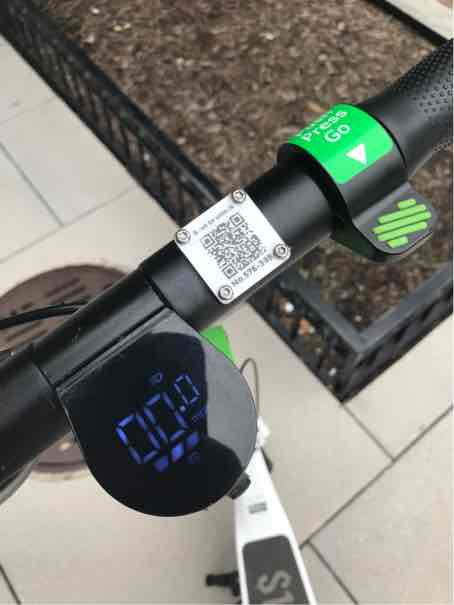scooter: (13, 78, 445, 599)
